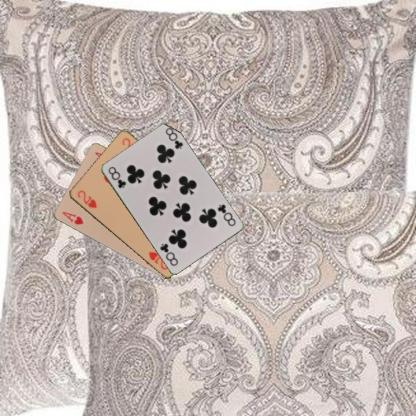2h: (74, 188, 98, 209)
8c: (214, 202, 237, 228), (105, 164, 127, 190)
Ah: (60, 209, 84, 226)
